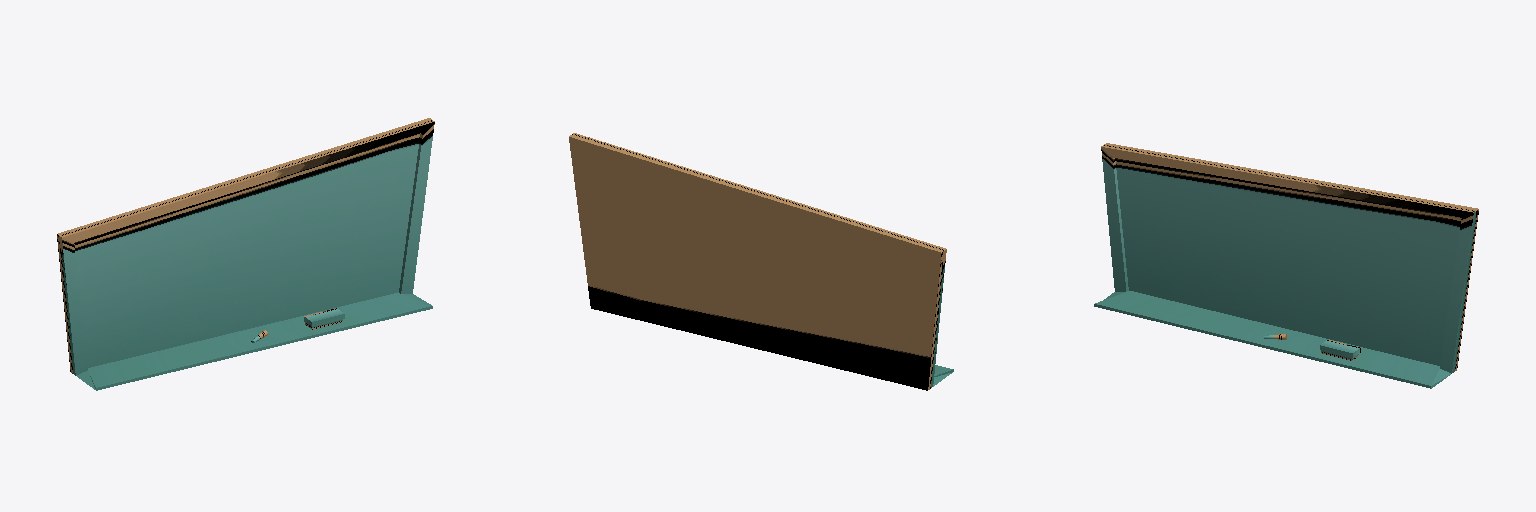
3 renders of one model, left to right at view 1: azimuth 30°, elevation 25°; view 2: azimuth 150°, elevation 25°; view 3: azimuth 330°, elevation 25°, orthographic.
Visible parts, largest first — view 1: pCube1, pCube2; view 2: pCube1; view 3: pCube1, pCube2.
Boxes of the visible parts, x1=… form: pCube1: x1=57, y1=118, x2=434, y2=390; pCube2: x1=304, y1=308, x2=344, y2=329; pCube1: x1=569, y1=133, x2=953, y2=390; pCube1: x1=1094, y1=143, x2=1478, y2=388; pCube2: x1=1320, y1=340, x2=1360, y2=360.
Size of the model in its own units: 12.04 by 5.14 by 1.44.
1 materials, 1 textured.